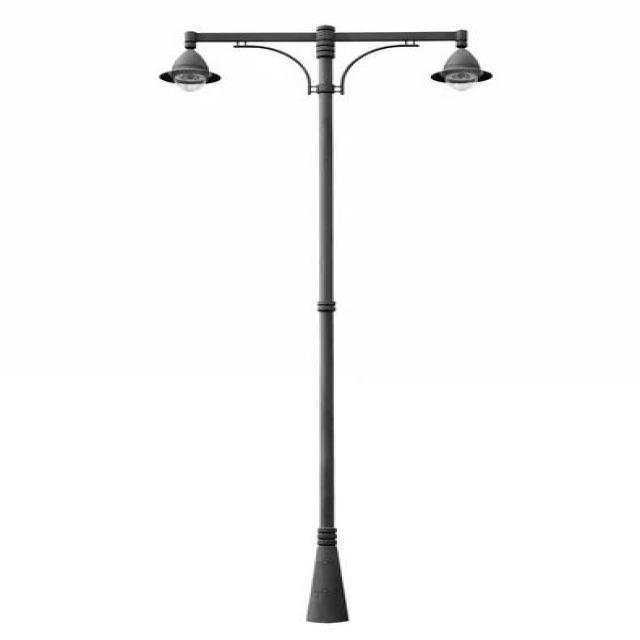Pole: (158, 25, 492, 624)
